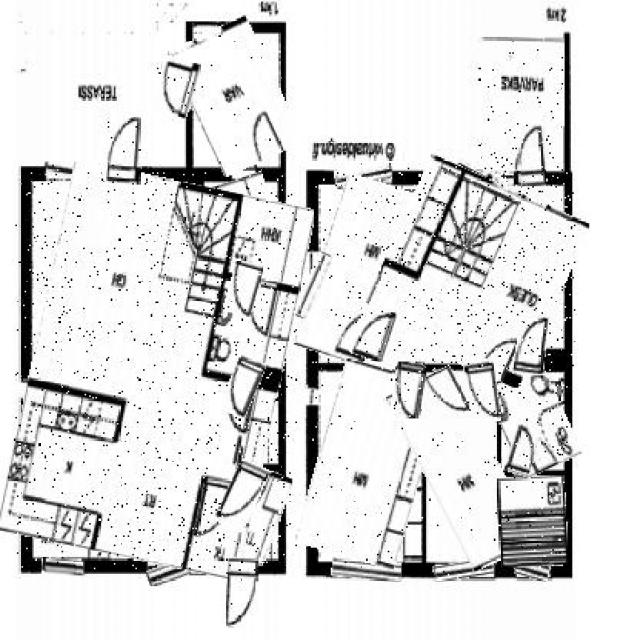door: (220, 460, 263, 531), (108, 109, 143, 185), (156, 57, 198, 117), (224, 355, 262, 417), (354, 306, 394, 360), (466, 360, 499, 423), (515, 314, 548, 375), (228, 559, 258, 626), (517, 120, 546, 186), (226, 261, 260, 317), (392, 363, 425, 419), (508, 425, 538, 477)
window: (146, 552, 220, 582), (300, 251, 326, 320), (455, 163, 511, 192), (332, 558, 402, 580), (336, 163, 392, 188), (434, 560, 494, 582), (45, 163, 106, 182), (42, 558, 83, 578), (516, 560, 550, 582), (304, 385, 318, 403), (20, 378, 31, 398)
zone: (14, 171, 297, 571), (374, 168, 575, 375), (306, 363, 434, 566), (306, 178, 436, 371), (406, 368, 517, 569), (180, 21, 291, 172), (479, 38, 563, 171), (491, 360, 572, 474), (198, 264, 282, 364), (197, 176, 281, 266), (217, 465, 286, 563), (499, 477, 566, 566)
